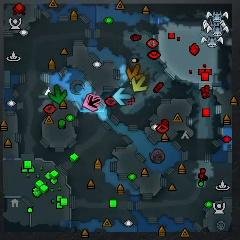x1: (83, 93, 96, 111)
x1Clone: (89, 96, 101, 108)
x2: (132, 76, 148, 91)
x3: (113, 87, 131, 105)
x4: (49, 85, 67, 104)
x5: (126, 64, 143, 82)
